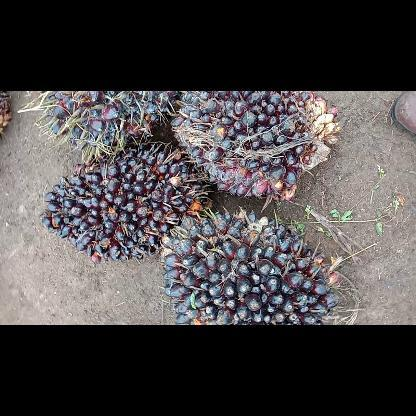TBS mentah: (158, 204, 341, 324), (38, 144, 212, 262), (169, 90, 345, 206), (34, 90, 180, 162)
